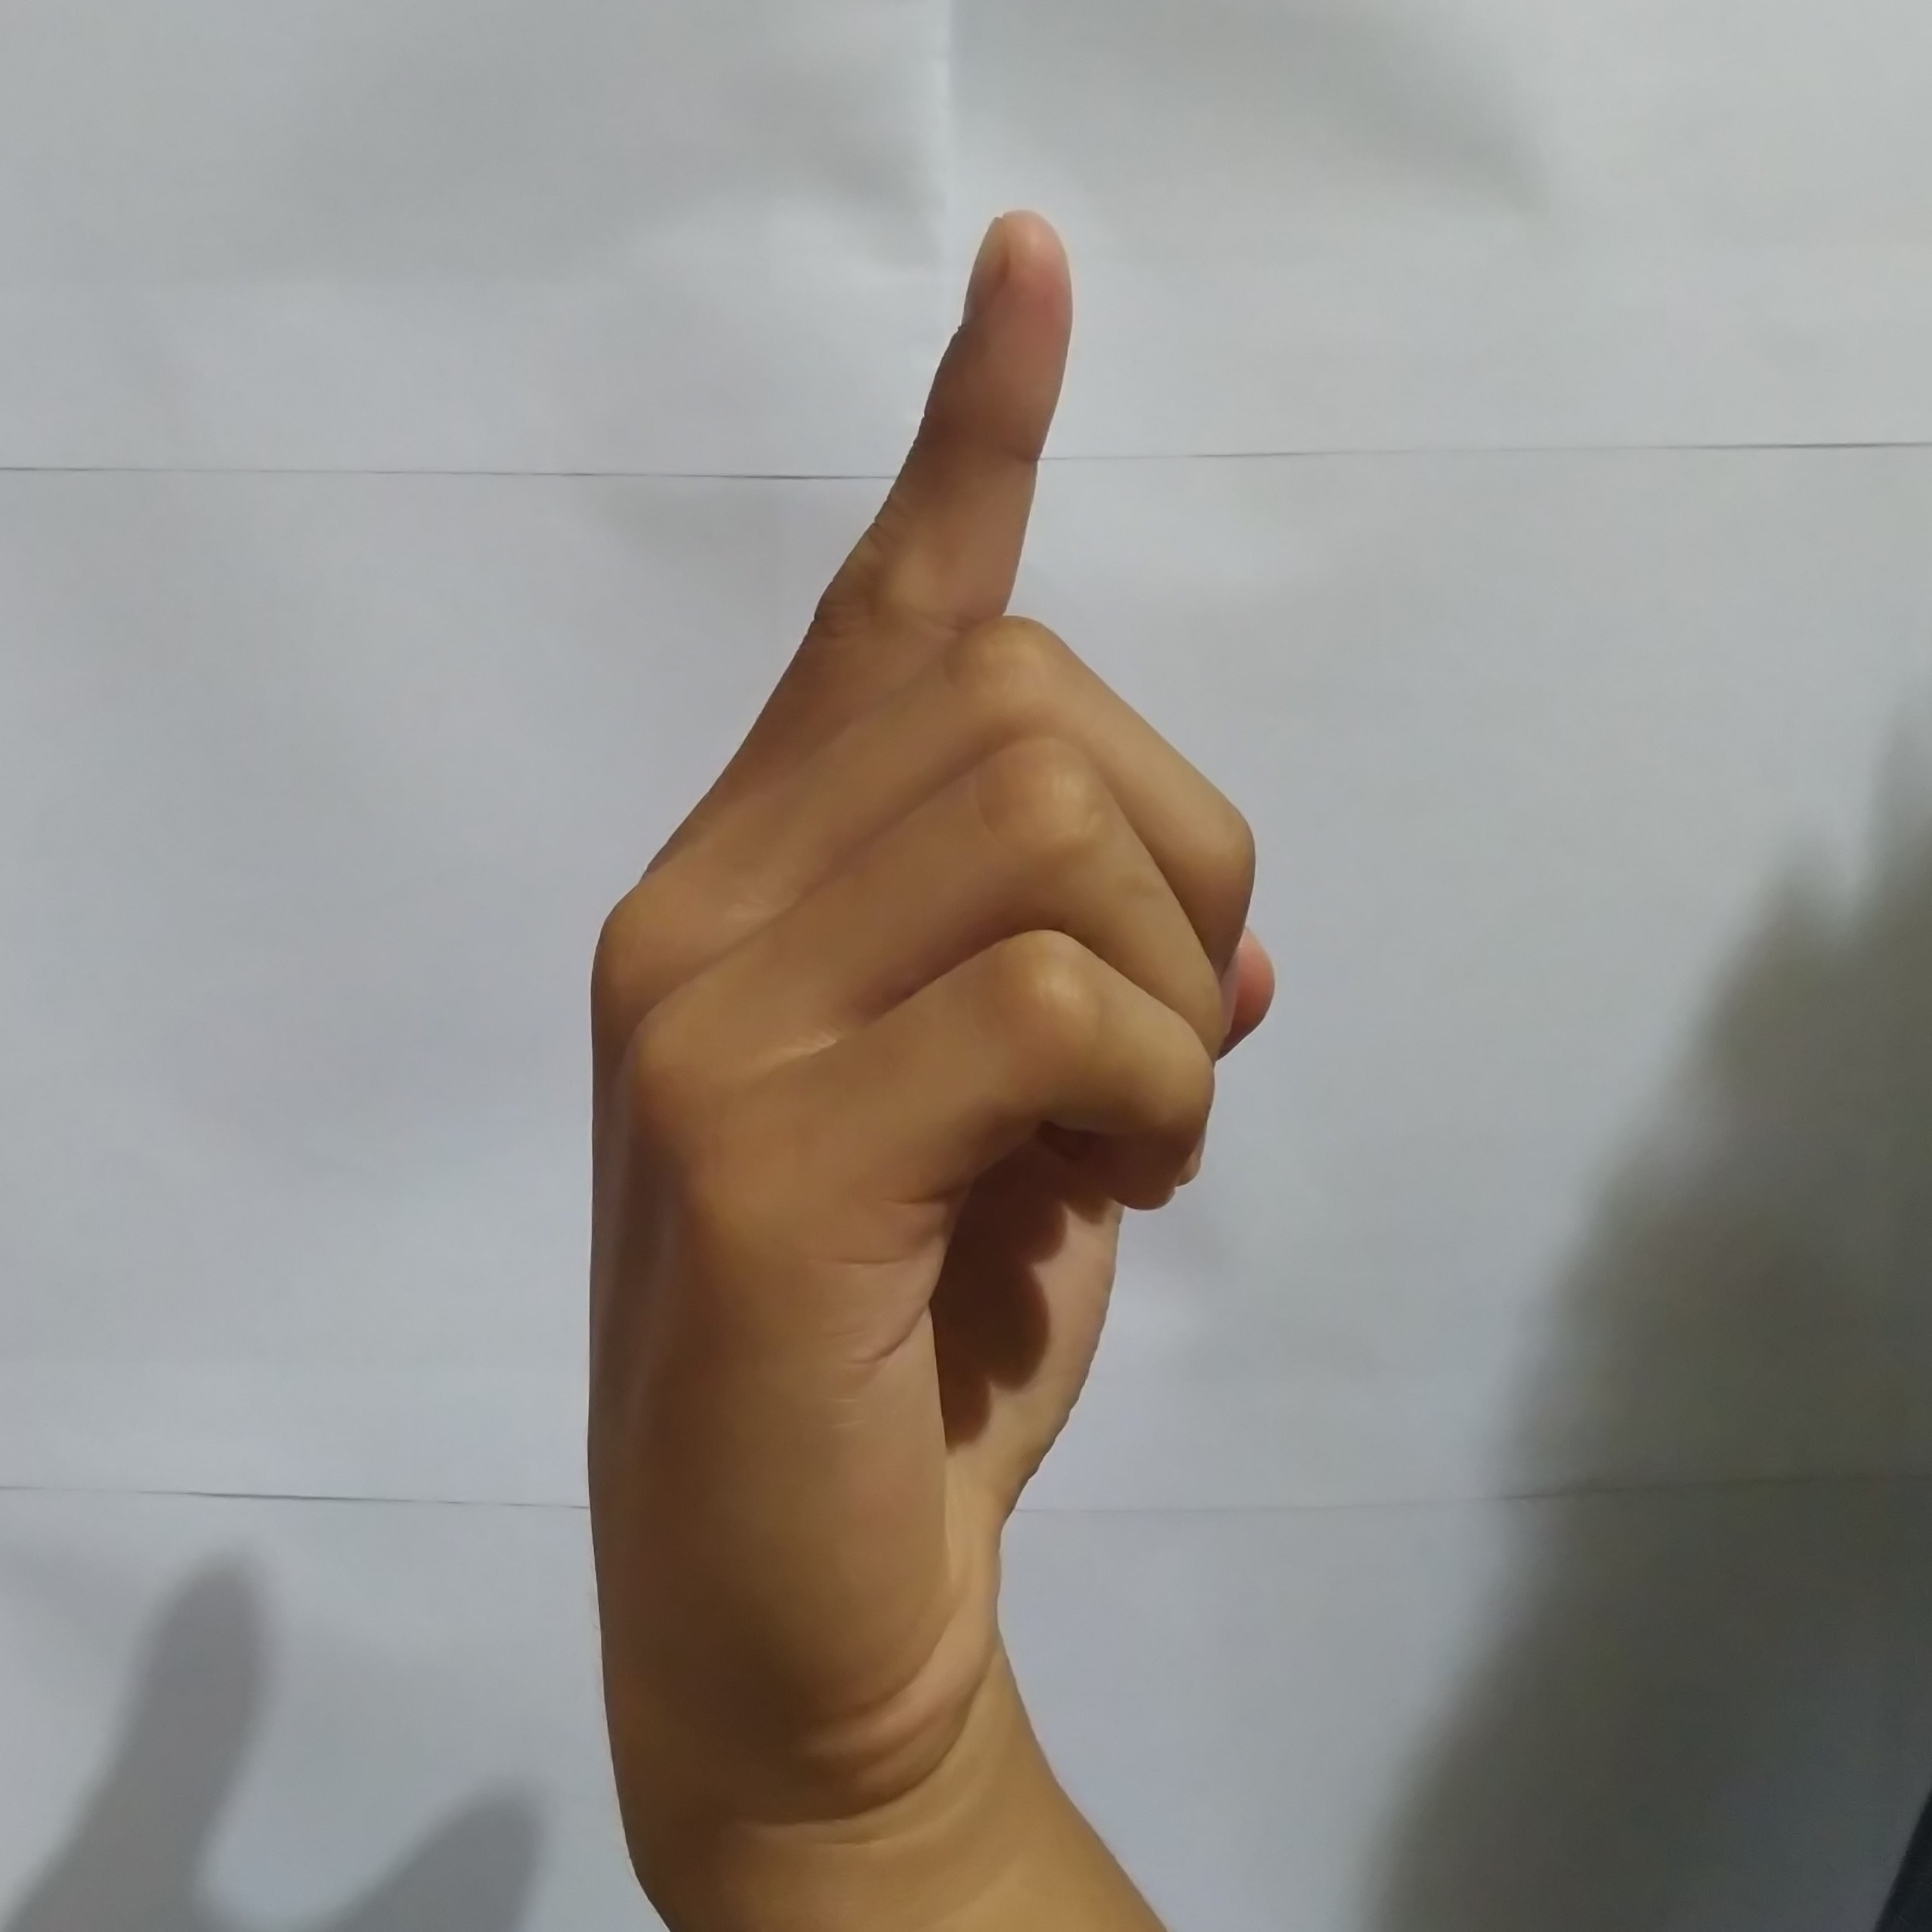D: (561, 191, 1299, 1633)
